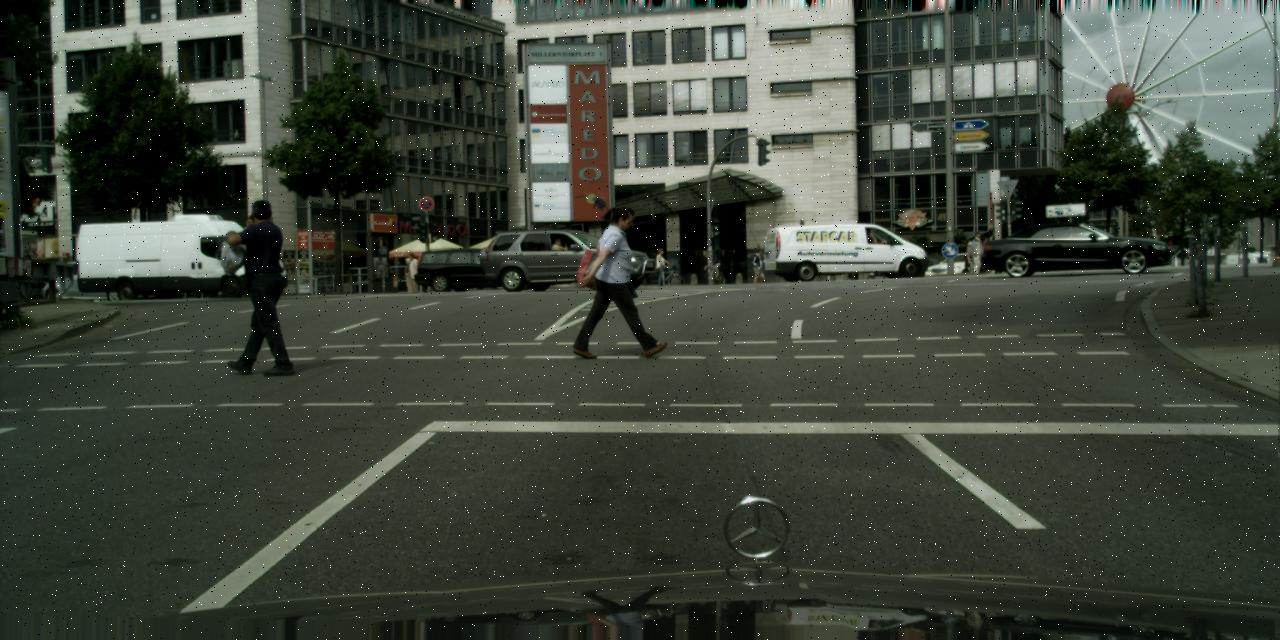ped: (225, 200, 296, 374), (588, 205, 650, 357), (968, 232, 985, 274), (405, 253, 421, 292), (654, 248, 668, 284), (401, 257, 415, 292), (752, 249, 766, 282), (965, 241, 977, 273), (705, 249, 714, 273)
